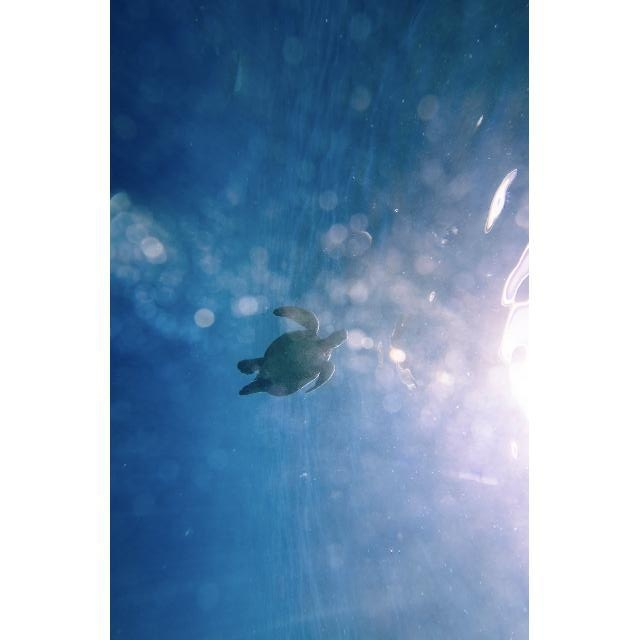turtle: (237, 305, 348, 399)
